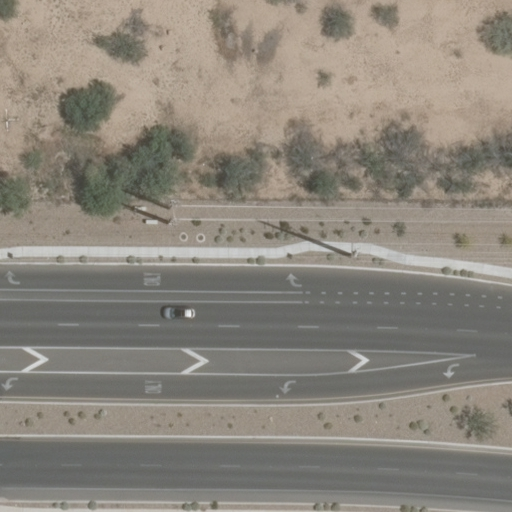DT: (156, 197, 190, 231), (347, 234, 367, 267)
